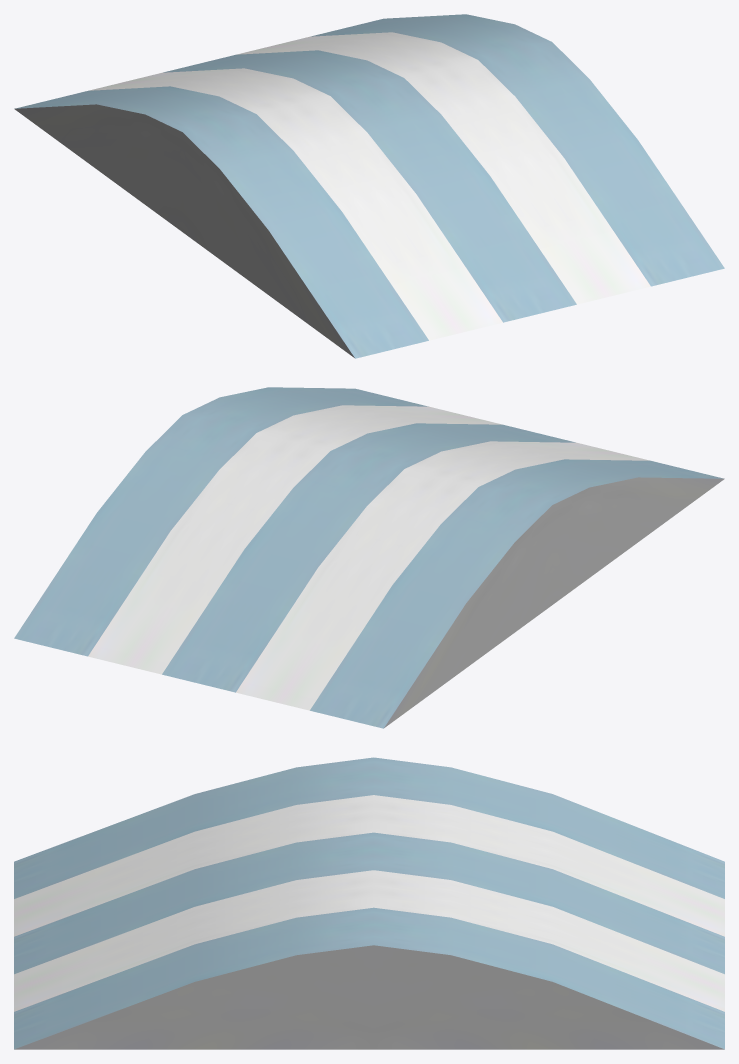
The picture shows the model from 3 angles, top to bottom: view 1: azimuth 30°, elevation 25°; view 2: azimuth 150°, elevation 25°; view 3: azimuth 270°, elevation 25°; orthographic projection. The views are drawn at different scales.
Parts seen in each view (by area): view 1: Cube_03; view 2: Cube_03; view 3: Cube_03.
Boxes of the visible parts, x1,y1,x2,y2 form: Cube_03: [14, 14, 724, 358]; Cube_03: [14, 387, 724, 728]; Cube_03: [14, 757, 724, 1049].
Size of the model in its own units: 24 by 6.21 by 38.39.
1 material, 1 textured.
